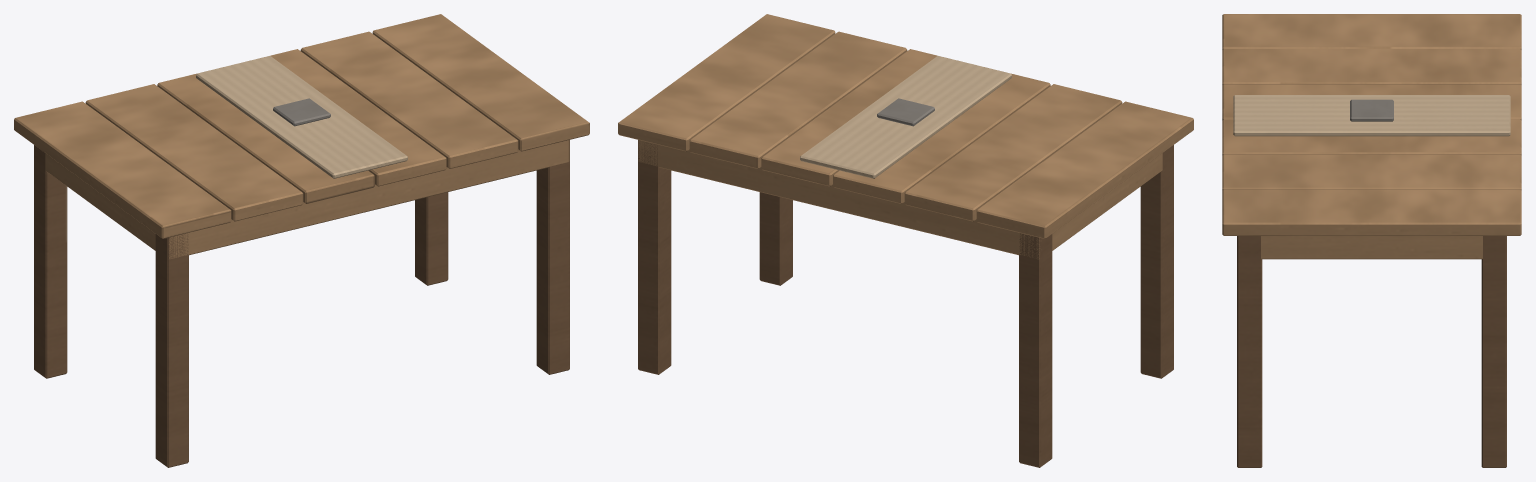
Rendered from furn_table.glb.
3 renders of one model, left to right at view 1: azimuth 30°, elevation 25°; view 2: azimuth 150°, elevation 25°; view 3: azimuth 270°, elevation 25°, orthographic.
Parts seen in each view (by area): view 1: furn_table; view 2: furn_table; view 3: furn_table.
Boxes of the visible parts, left/top/right/bottom form: furn_table: left=14, top=14, right=589, bottom=467; furn_table: left=618, top=14, right=1193, bottom=467; furn_table: left=1222, top=14, right=1521, bottom=467.
Size of the model in its own units: 1.36 by 0.79 by 0.82.
Materials: 1 (1 with a texture image).
